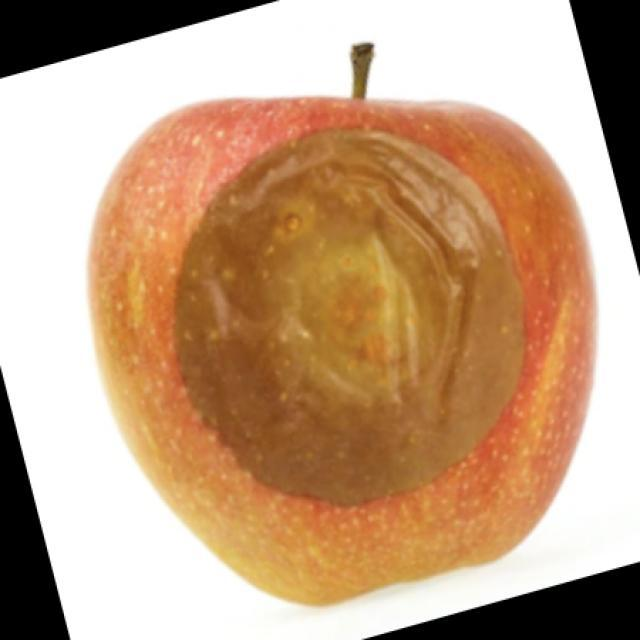Rotten: (92, 71, 603, 626)
